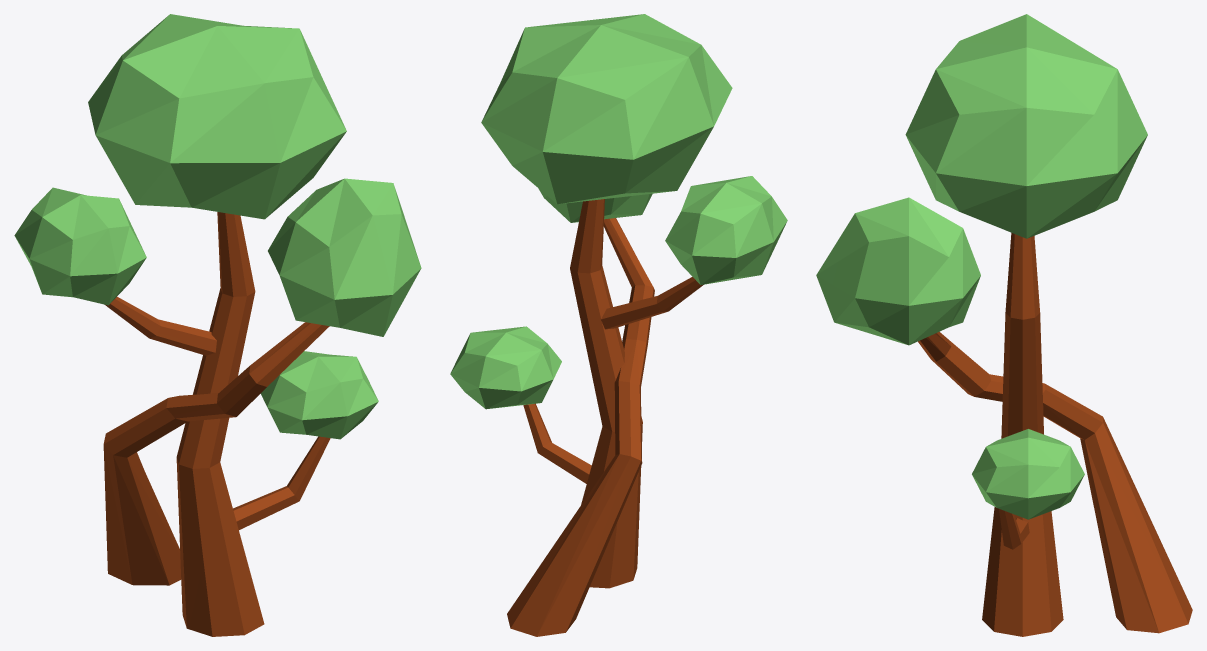
File: tropical_plant_20.glb
The picture shows the model from 3 angles, left to right: view 1: azimuth 30°, elevation 25°; view 2: azimuth 150°, elevation 25°; view 3: azimuth 270°, elevation 25°; orthographic projection. The views are drawn at different scales.
Visible parts, largest first — view 1: Tropical_plant_020; view 2: Tropical_plant_020; view 3: Tropical_plant_020.
Boxes of the visible parts, x1,y1,x2,y2 form: Tropical_plant_020: [14, 14, 421, 636]; Tropical_plant_020: [450, 14, 787, 636]; Tropical_plant_020: [816, 14, 1192, 636].
Bounding box in the file's own units: 0.8693 × 1.45 × 0.867.
1 material, 1 textured.
